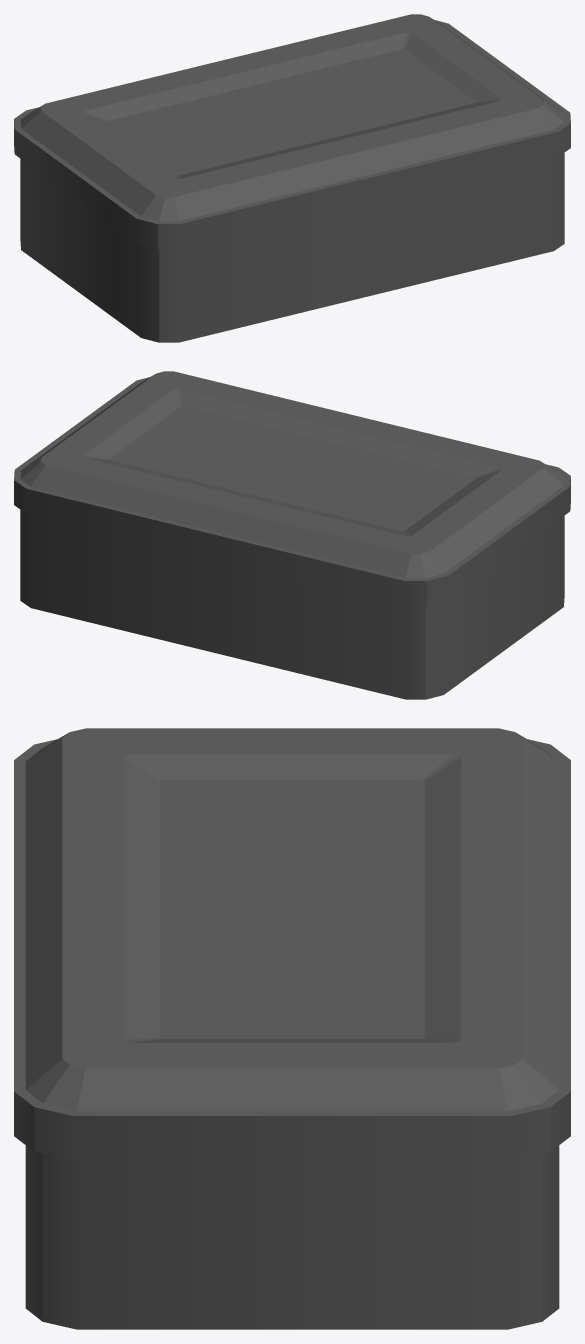
File: instrument box3.FBX
The picture shows the model from 3 angles, top to bottom: view 1: azimuth 30°, elevation 25°; view 2: azimuth 150°, elevation 25°; view 3: azimuth 270°, elevation 25°; orthographic projection. The views are drawn at different scales.
Parts seen in each view (by area): view 1: instrument box3; view 2: instrument box3; view 3: instrument box3.
Boxes of the visible parts, x1,y1,x2,y2 form: instrument box3: (14,14,570,342); instrument box3: (14,371,570,699); instrument box3: (14,728,570,1329).
Size of the model in its own units: 9.57 by 5.92 by 2.88.
